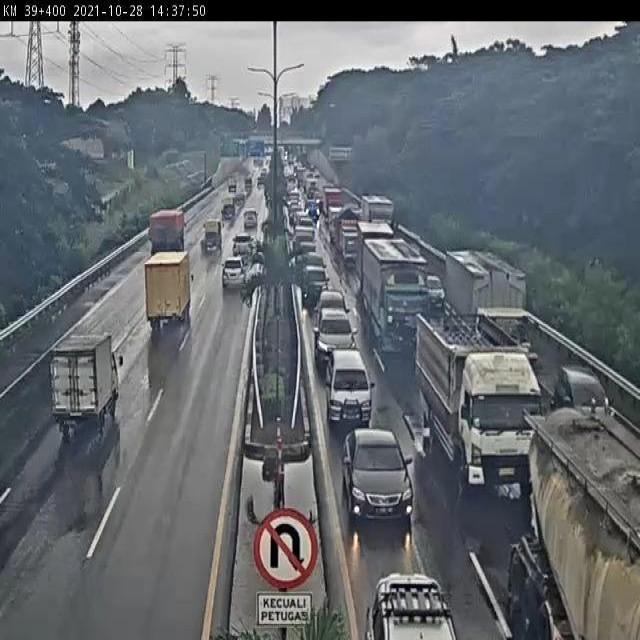big truck: (510, 392, 640, 640), (410, 305, 542, 500), (442, 240, 545, 356), (357, 232, 450, 356), (133, 183, 197, 272), (140, 248, 198, 336), (334, 210, 366, 270)
car: (343, 428, 432, 541), (366, 552, 470, 640), (549, 354, 627, 438), (312, 304, 358, 361), (217, 255, 258, 297), (318, 279, 345, 325), (304, 266, 333, 306), (214, 200, 241, 229), (233, 229, 259, 259), (300, 250, 328, 274), (296, 241, 319, 264), (245, 207, 264, 229)
small bus: (327, 352, 386, 425)
small truck: (43, 320, 124, 435), (202, 218, 231, 266)
